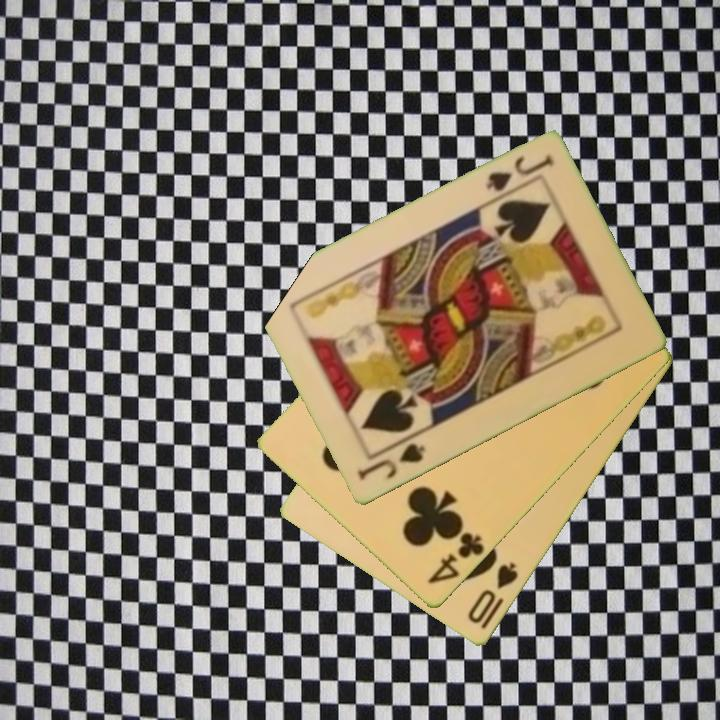10s: (464, 559, 521, 628)
4c: (424, 529, 488, 588)
Js: (353, 440, 429, 485), (482, 151, 557, 196)
